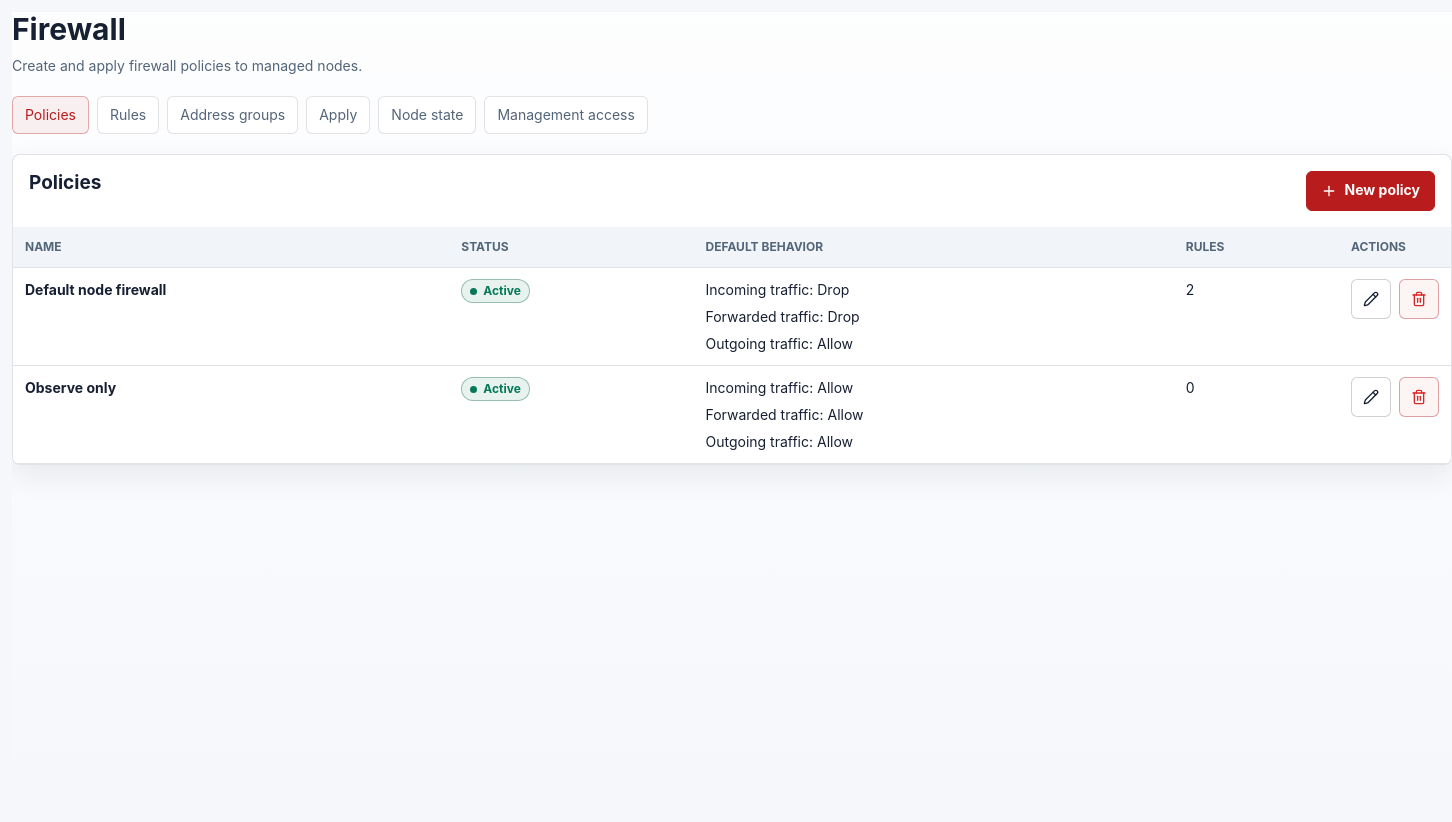
FirewallPage › loads policies and address groups from mocked API
Click the tab "Address groups": click(233, 114) [167,96,298,134]
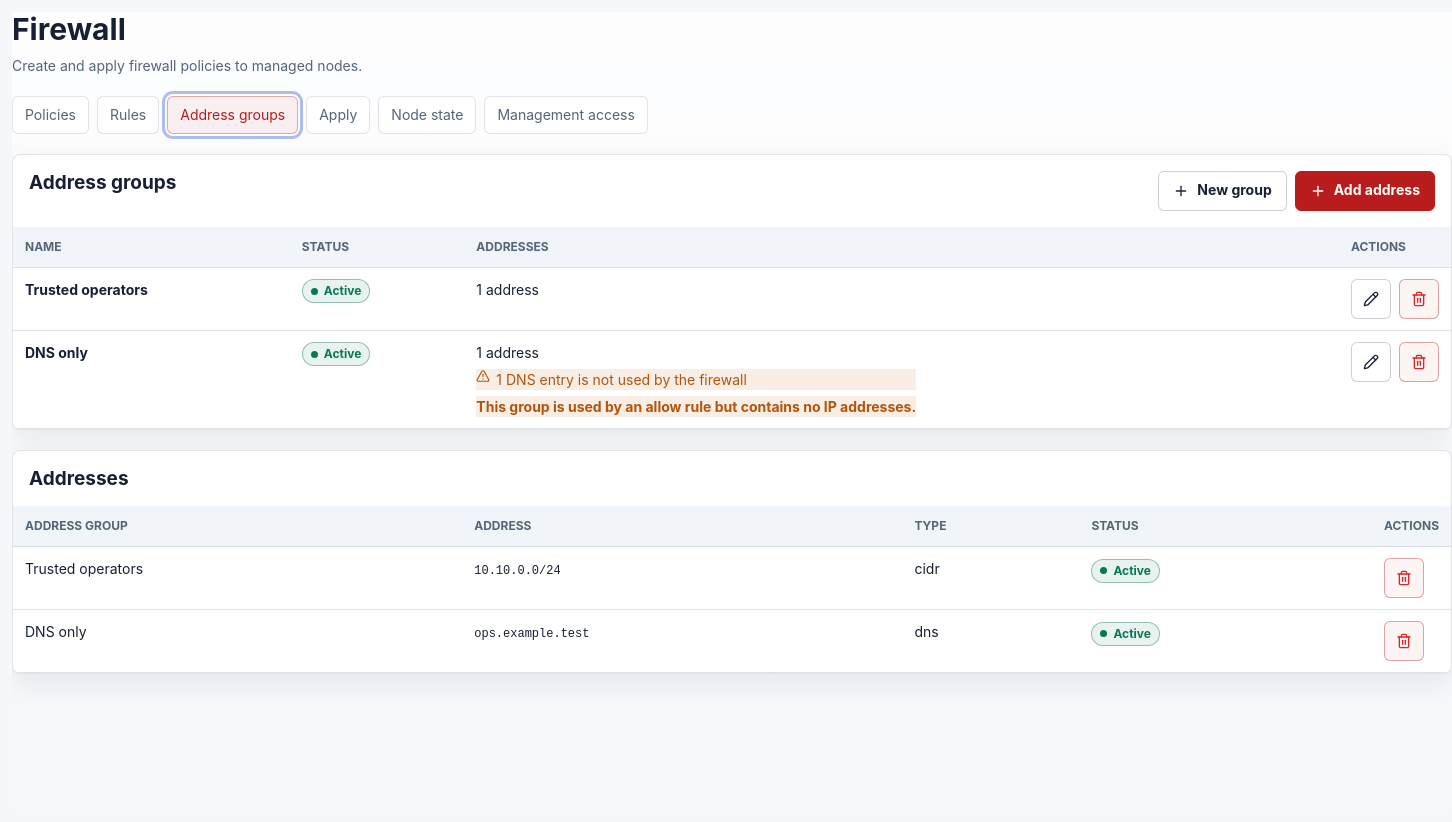
Expected: the text "Trusted operators" is shown, [25,280,148,298]
